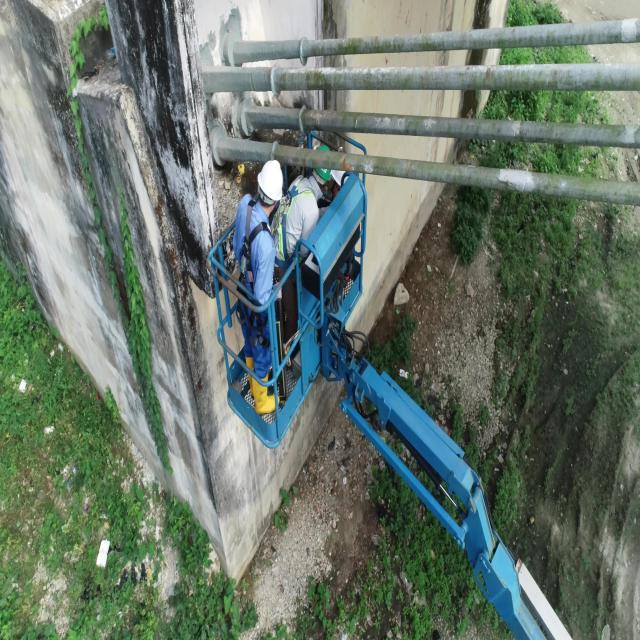corrosion: (485, 67, 492, 81), (342, 157, 346, 171), (511, 27, 516, 35), (374, 36, 378, 46), (348, 164, 353, 172), (302, 160, 306, 168), (466, 66, 470, 72)
crack: (407, 159, 414, 173)
